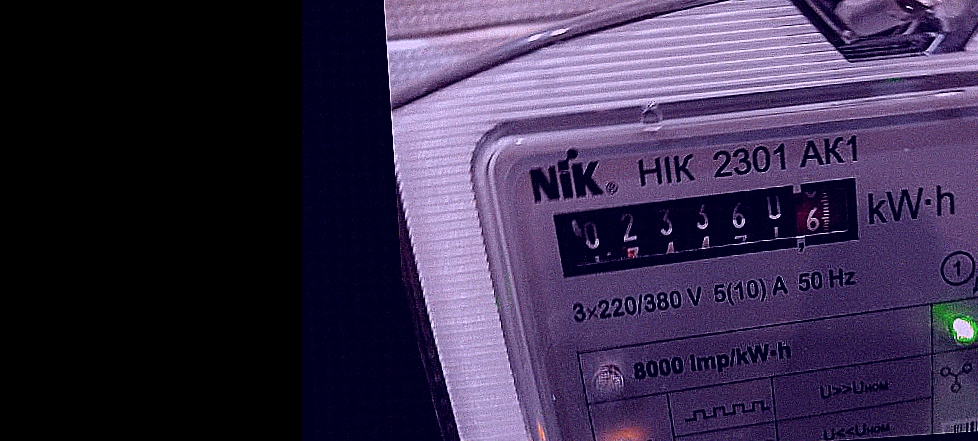0: (579, 215, 603, 251), (761, 189, 785, 222)
2: (618, 208, 640, 242)
3: (691, 196, 712, 230), (654, 205, 675, 237)
6: (726, 196, 749, 230), (802, 200, 825, 234)
screen: (535, 166, 879, 283)
